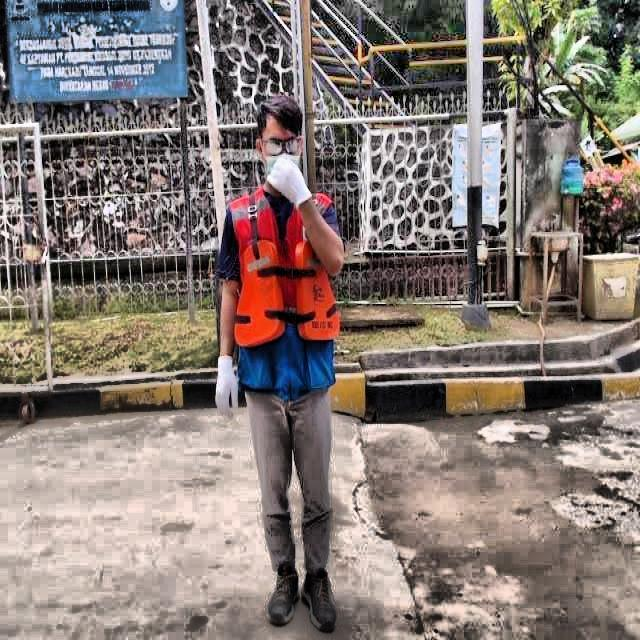safety_jacket: (225, 185, 343, 396)
